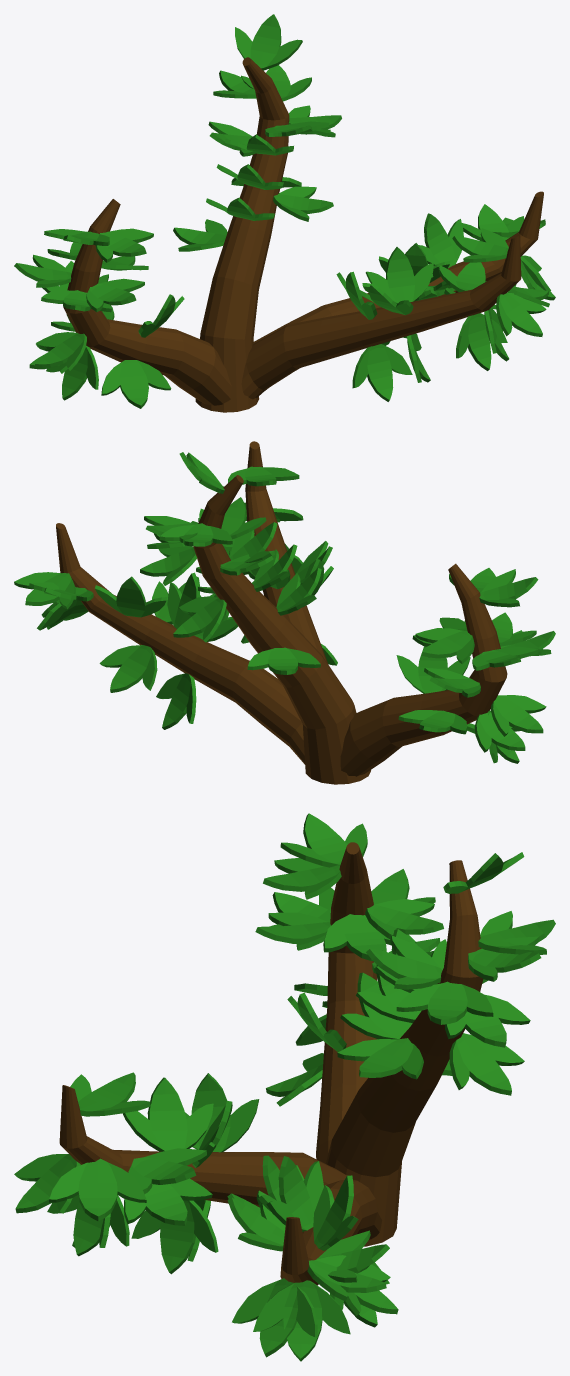
File: Arbusto3Hoja2.fbx
The picture shows the model from 3 angles, top to bottom: view 1: azimuth 30°, elevation 25°; view 2: azimuth 150°, elevation 25°; view 3: azimuth 270°, elevation 25°; orthographic projection. The views are drawn at different scales.
Visible parts, largest first — view 1: RamaArbusto3Hoja2; view 2: RamaArbusto3Hoja2; view 3: RamaArbusto3Hoja2.
Part boxes in pixels (x1,y1,x2,y2): RamaArbusto3Hoja2: (14, 14, 555, 412); RamaArbusto3Hoja2: (14, 441, 555, 784); RamaArbusto3Hoja2: (14, 813, 555, 1361).
Size of the model in its own units: 184 by 111 by 124.
